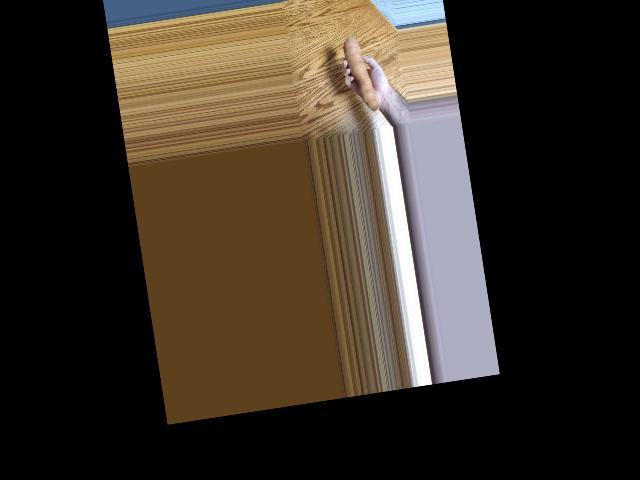sweet_potato: (337, 29, 381, 110)
